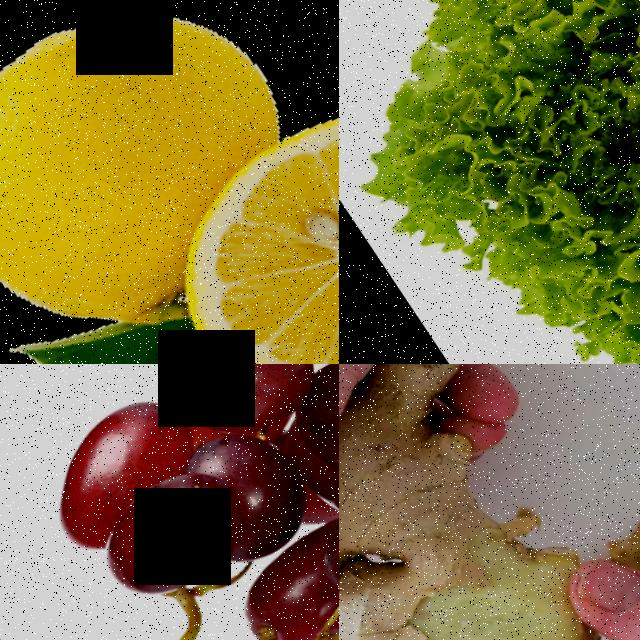ginger: (339, 376, 629, 640)
grapes: (0, 364, 339, 640)
lemon: (0, 0, 313, 317), (102, 28, 339, 364)
lettuce: (339, 0, 640, 364)
